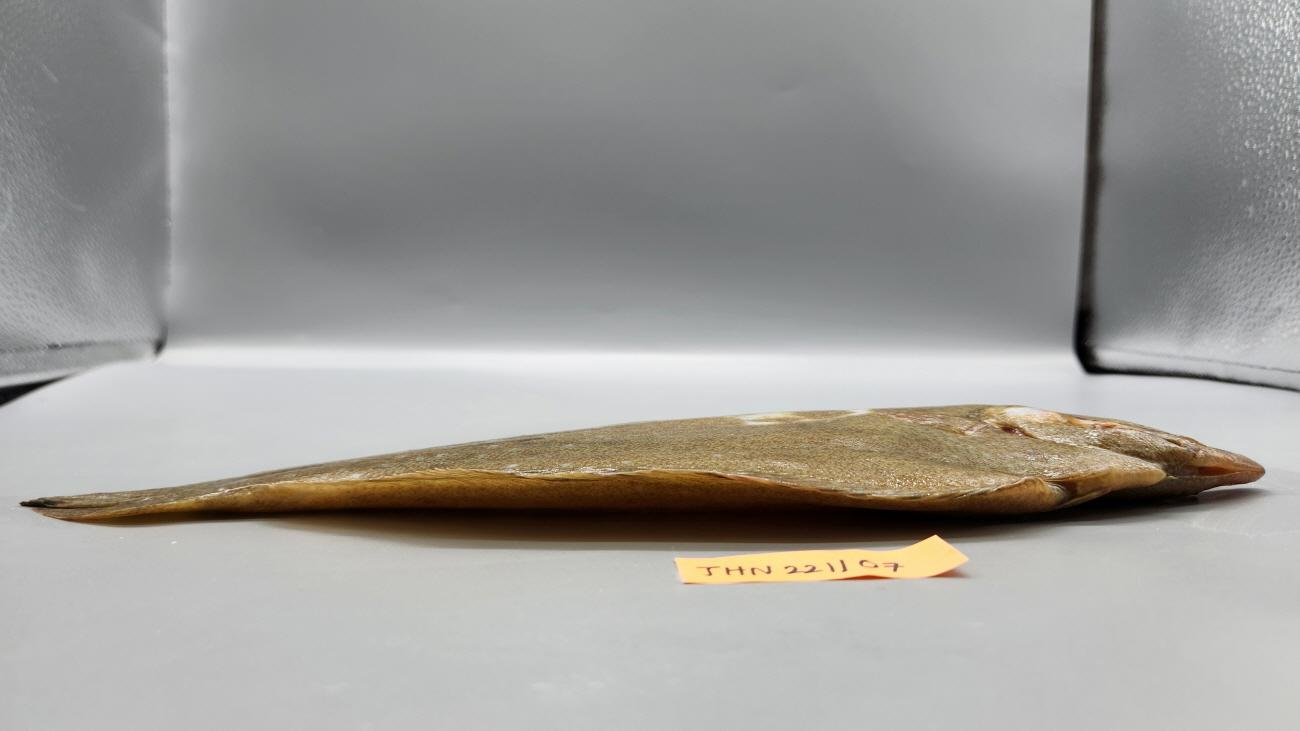POOUN: (19, 404, 1266, 520)
